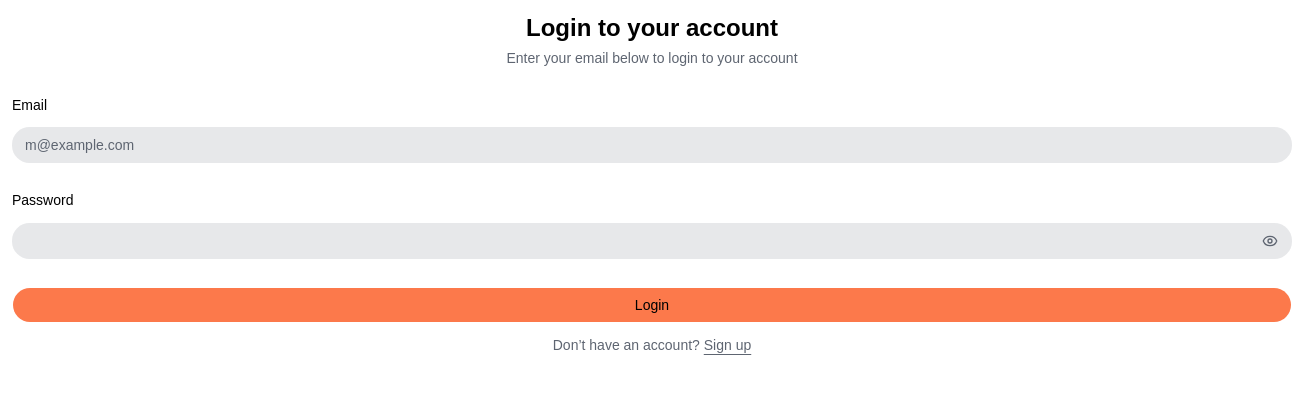
Test: authentication forms › shows API errors and allows login to be retried
Type "person@example.com" into the field labelled "Email" at (652, 145), box [12,127,1292,163]
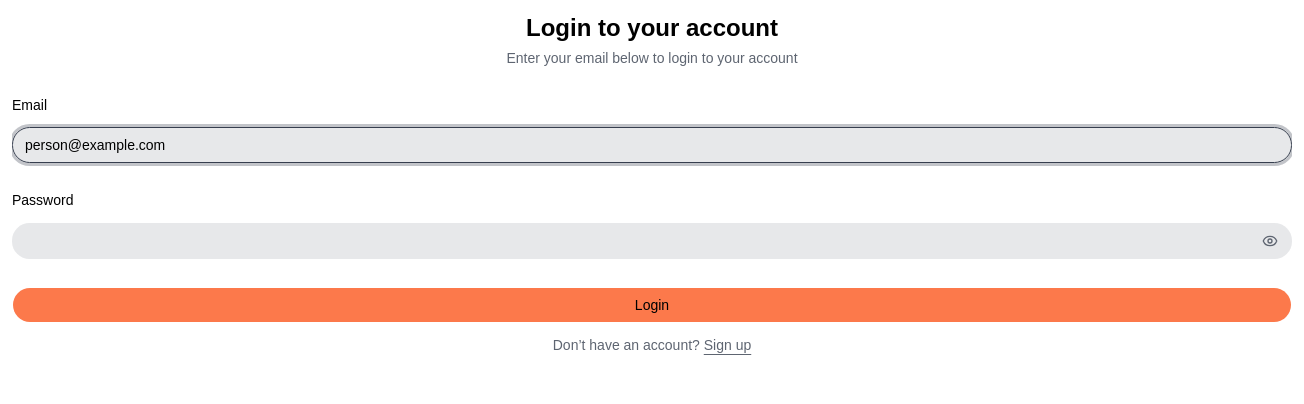
Type "Example123!" into the password field labelled "Password" at (652, 240), box [12,222,1292,258]
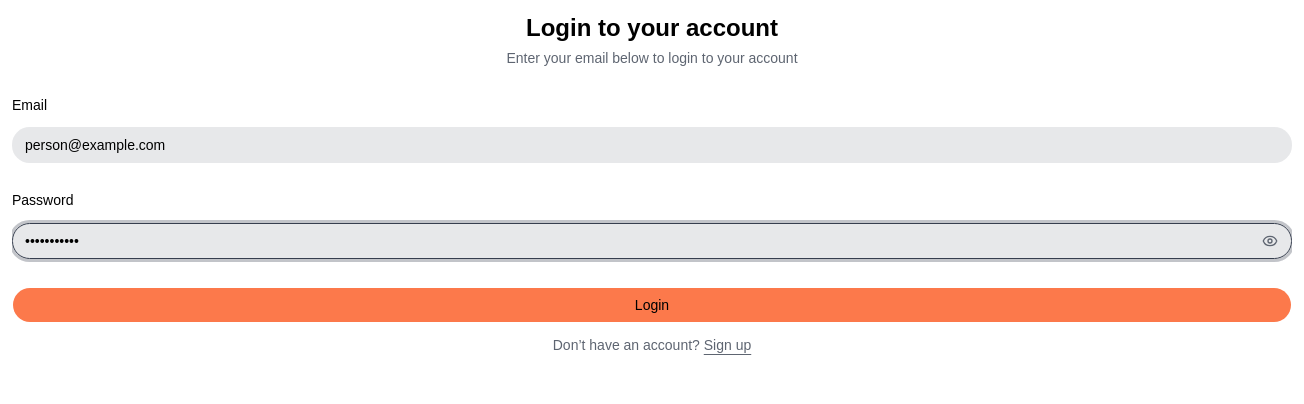
Click the button "Login" at (652, 304), box [12,286,1292,322]
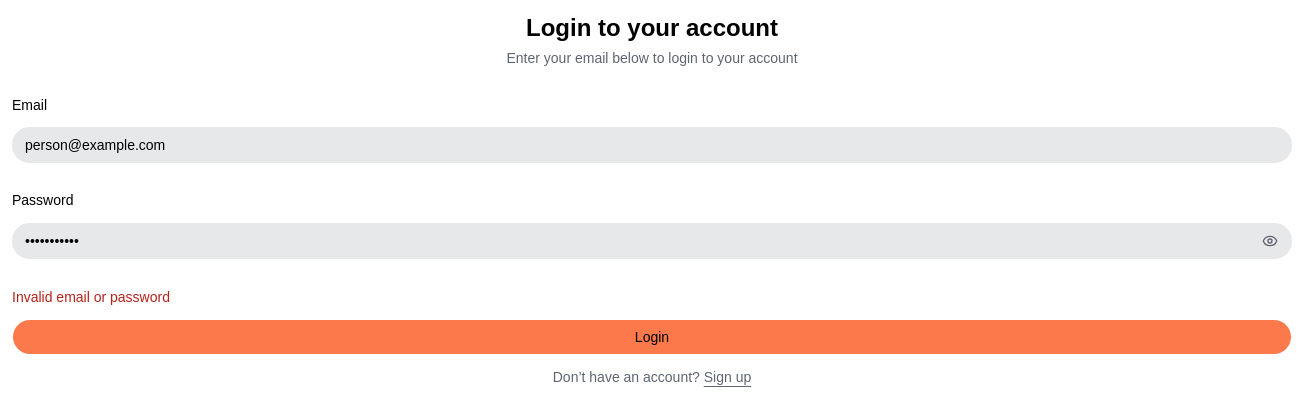
Result: the text "Invalid email or password" is shown at [12,288,170,304]
Click the button "Login" at (652, 336), box [12,318,1292,354]
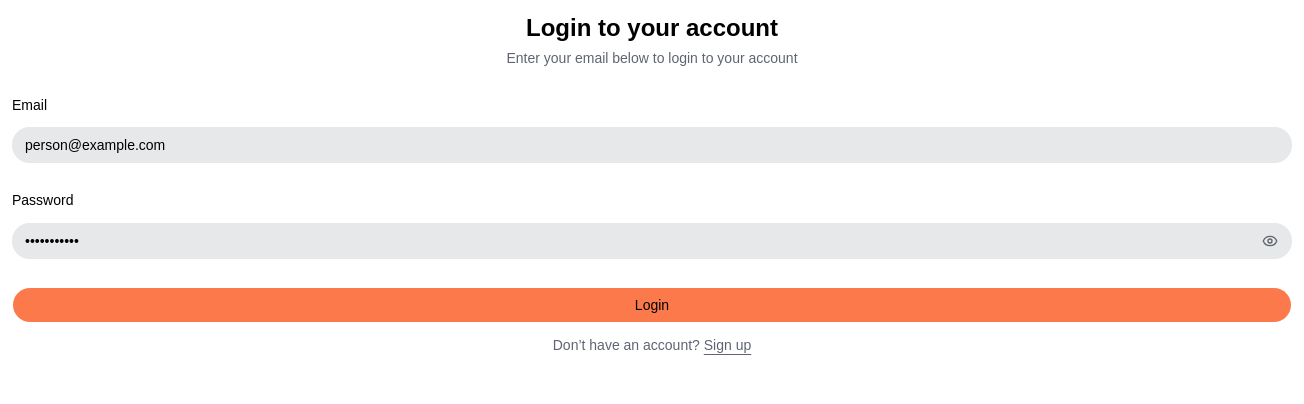
Result: the text "Invalid email or password" is gone
